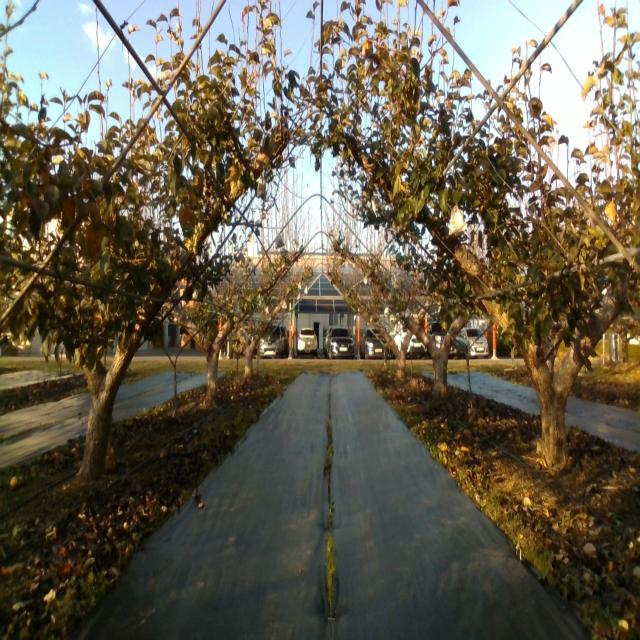pearbags: (446, 206, 466, 235), (256, 177, 266, 198)
